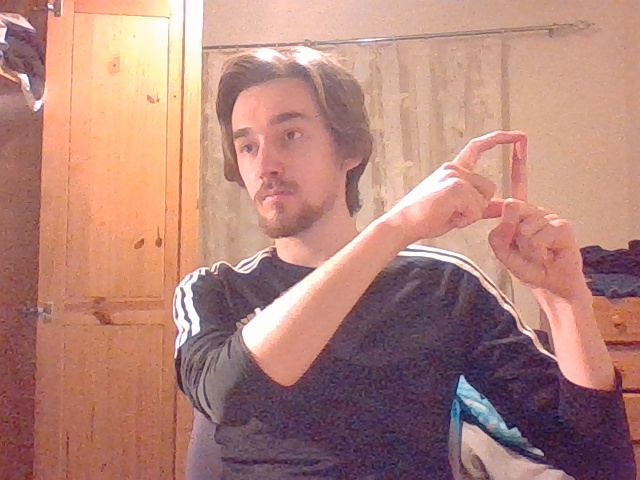daughter: (427, 131, 583, 281)
